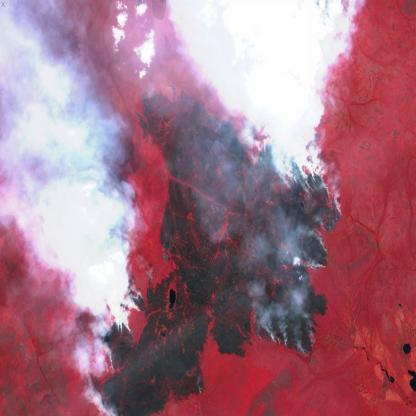fire: (252, 128, 343, 356), (85, 268, 155, 416), (157, 243, 173, 266)
